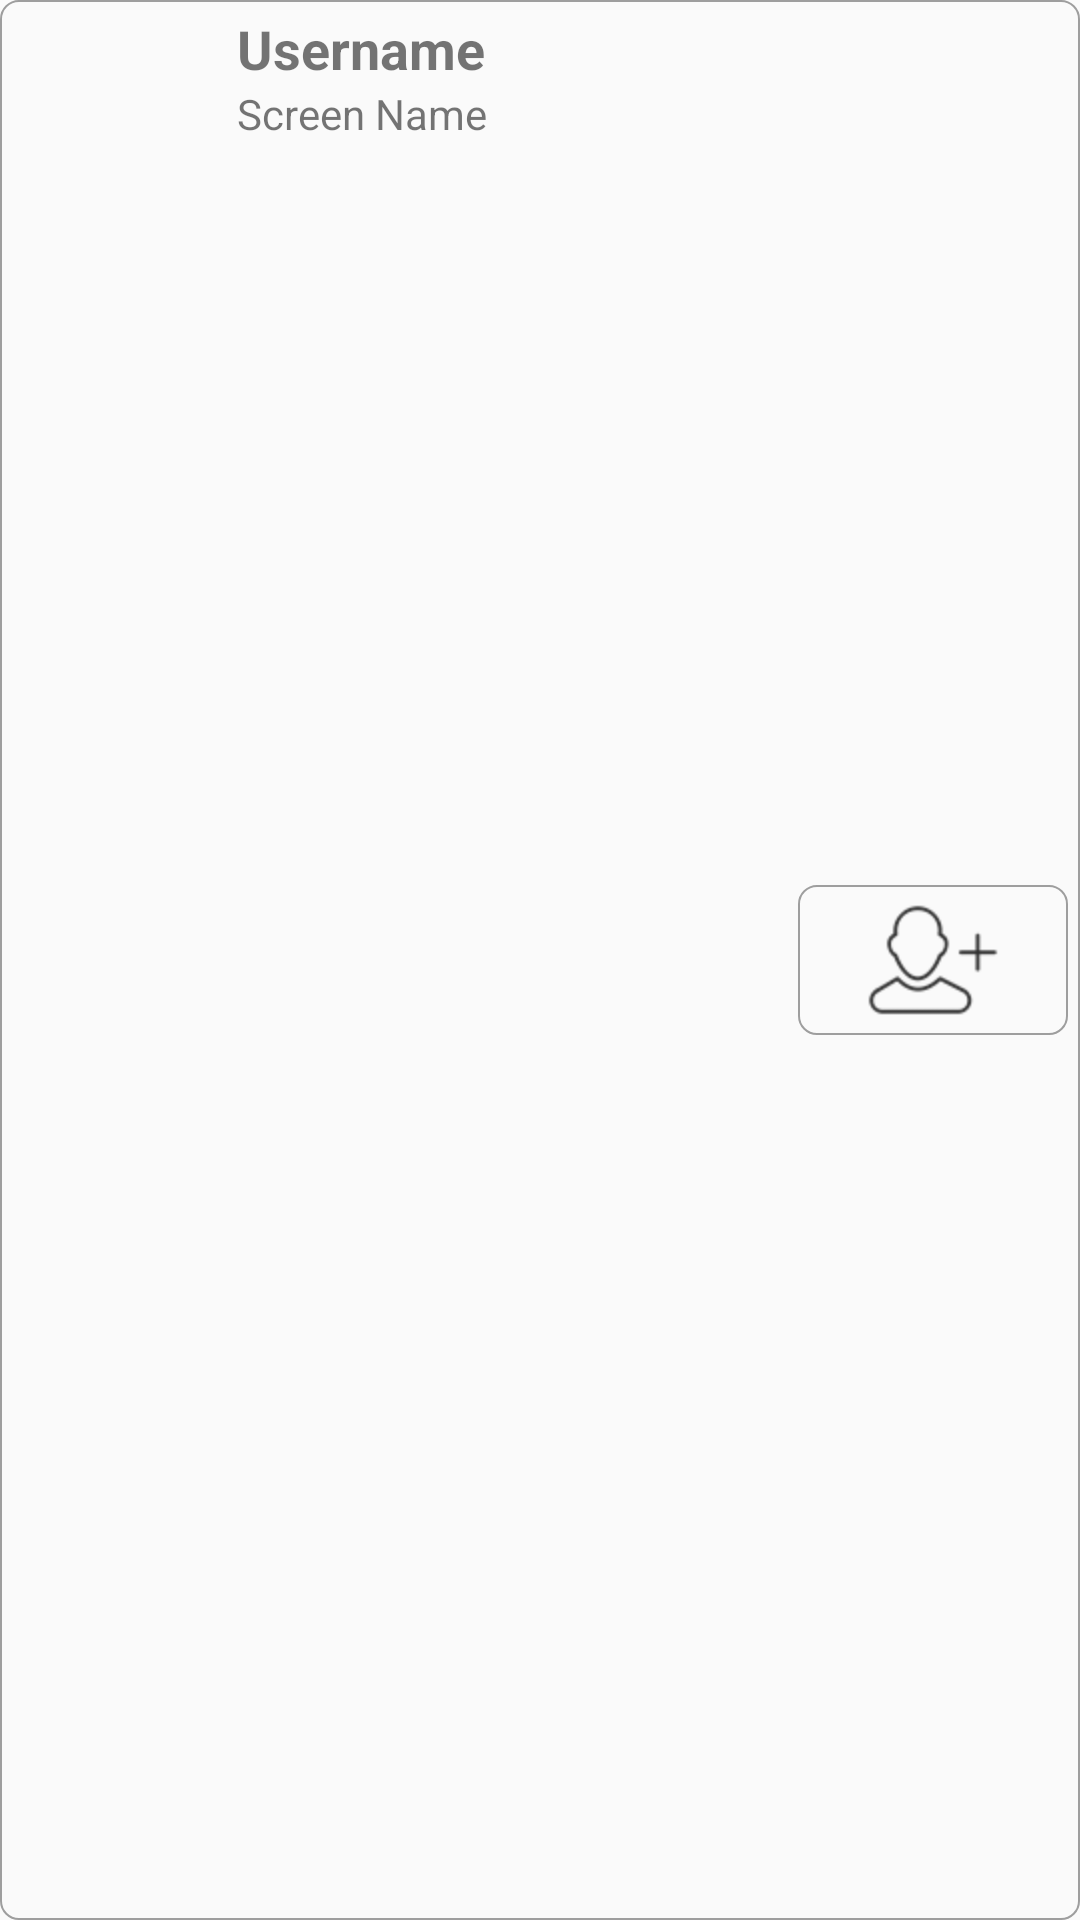

Screen size 1080*1920. Icon name, then its center in pixels as point (x, y):
add user: point (933, 960)
